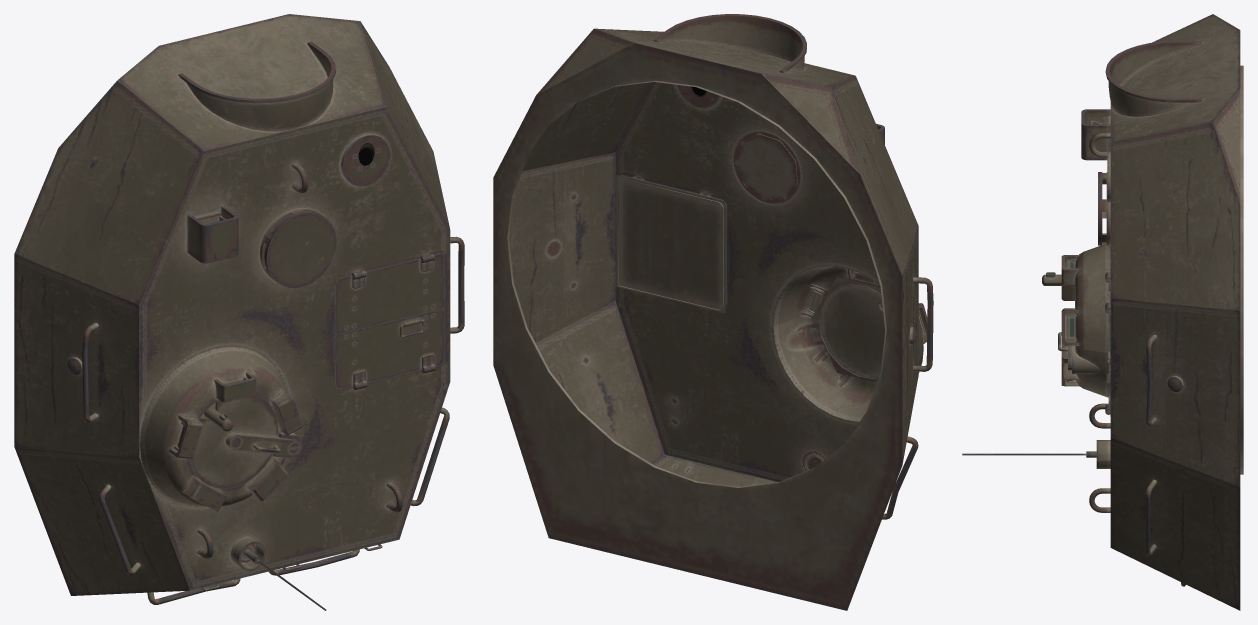
The model's file is Turret_01.glb.
The picture shows the model from 3 angles, left to right: view 1: azimuth 30°, elevation 25°; view 2: azimuth 150°, elevation 25°; view 3: azimuth 270°, elevation 25°; orthographic projection. The views are drawn at different scales.
Visible parts, largest first — view 1: set_0_group_0; view 2: set_0_group_0; view 3: set_0_group_0.
Part boxes in pixels (x1,y1,x2,y2): set_0_group_0: (14, 14, 464, 610); set_0_group_0: (493, 14, 933, 610); set_0_group_0: (962, 14, 1243, 610).
Bounding box in the file's own units: 2.4 × 2.9 × 1.53.
Materials: 1 (1 with a texture image).
